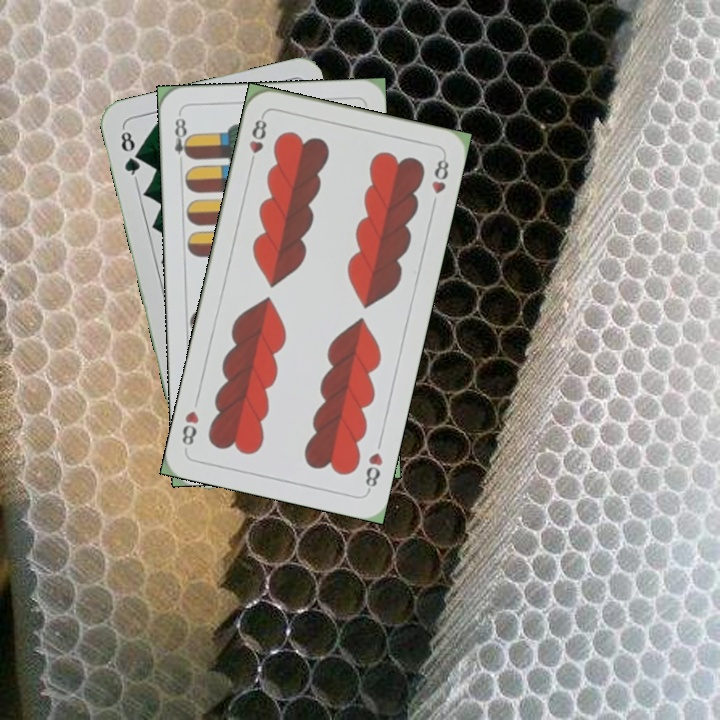E8: (170, 110, 194, 169)
G8: (116, 124, 144, 183)
H8: (245, 111, 269, 170), (361, 448, 386, 494)
